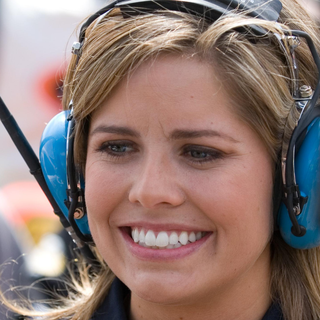eye: (175, 141, 229, 166), (96, 136, 142, 162)
